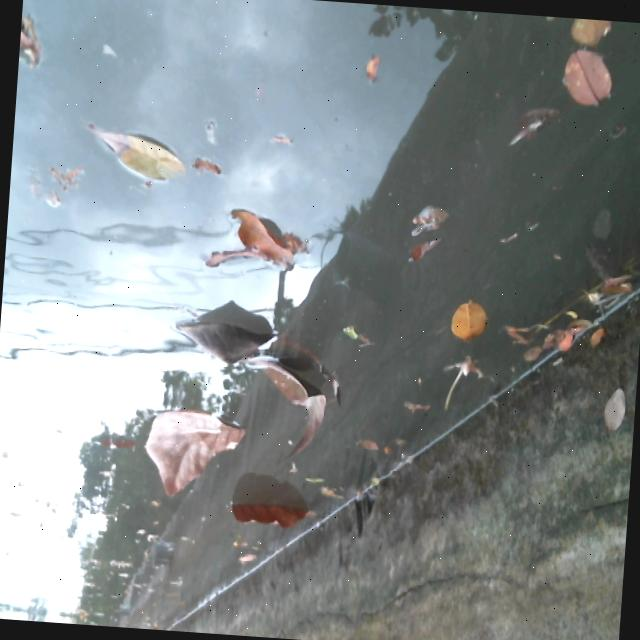Big-leaf: (164, 291, 347, 452), (127, 403, 246, 501), (195, 199, 319, 271), (230, 486, 328, 539)
Small-leaf: (74, 113, 211, 193), (545, 42, 624, 117), (398, 183, 453, 268), (17, 0, 50, 73), (566, 17, 623, 51), (448, 291, 484, 340)
